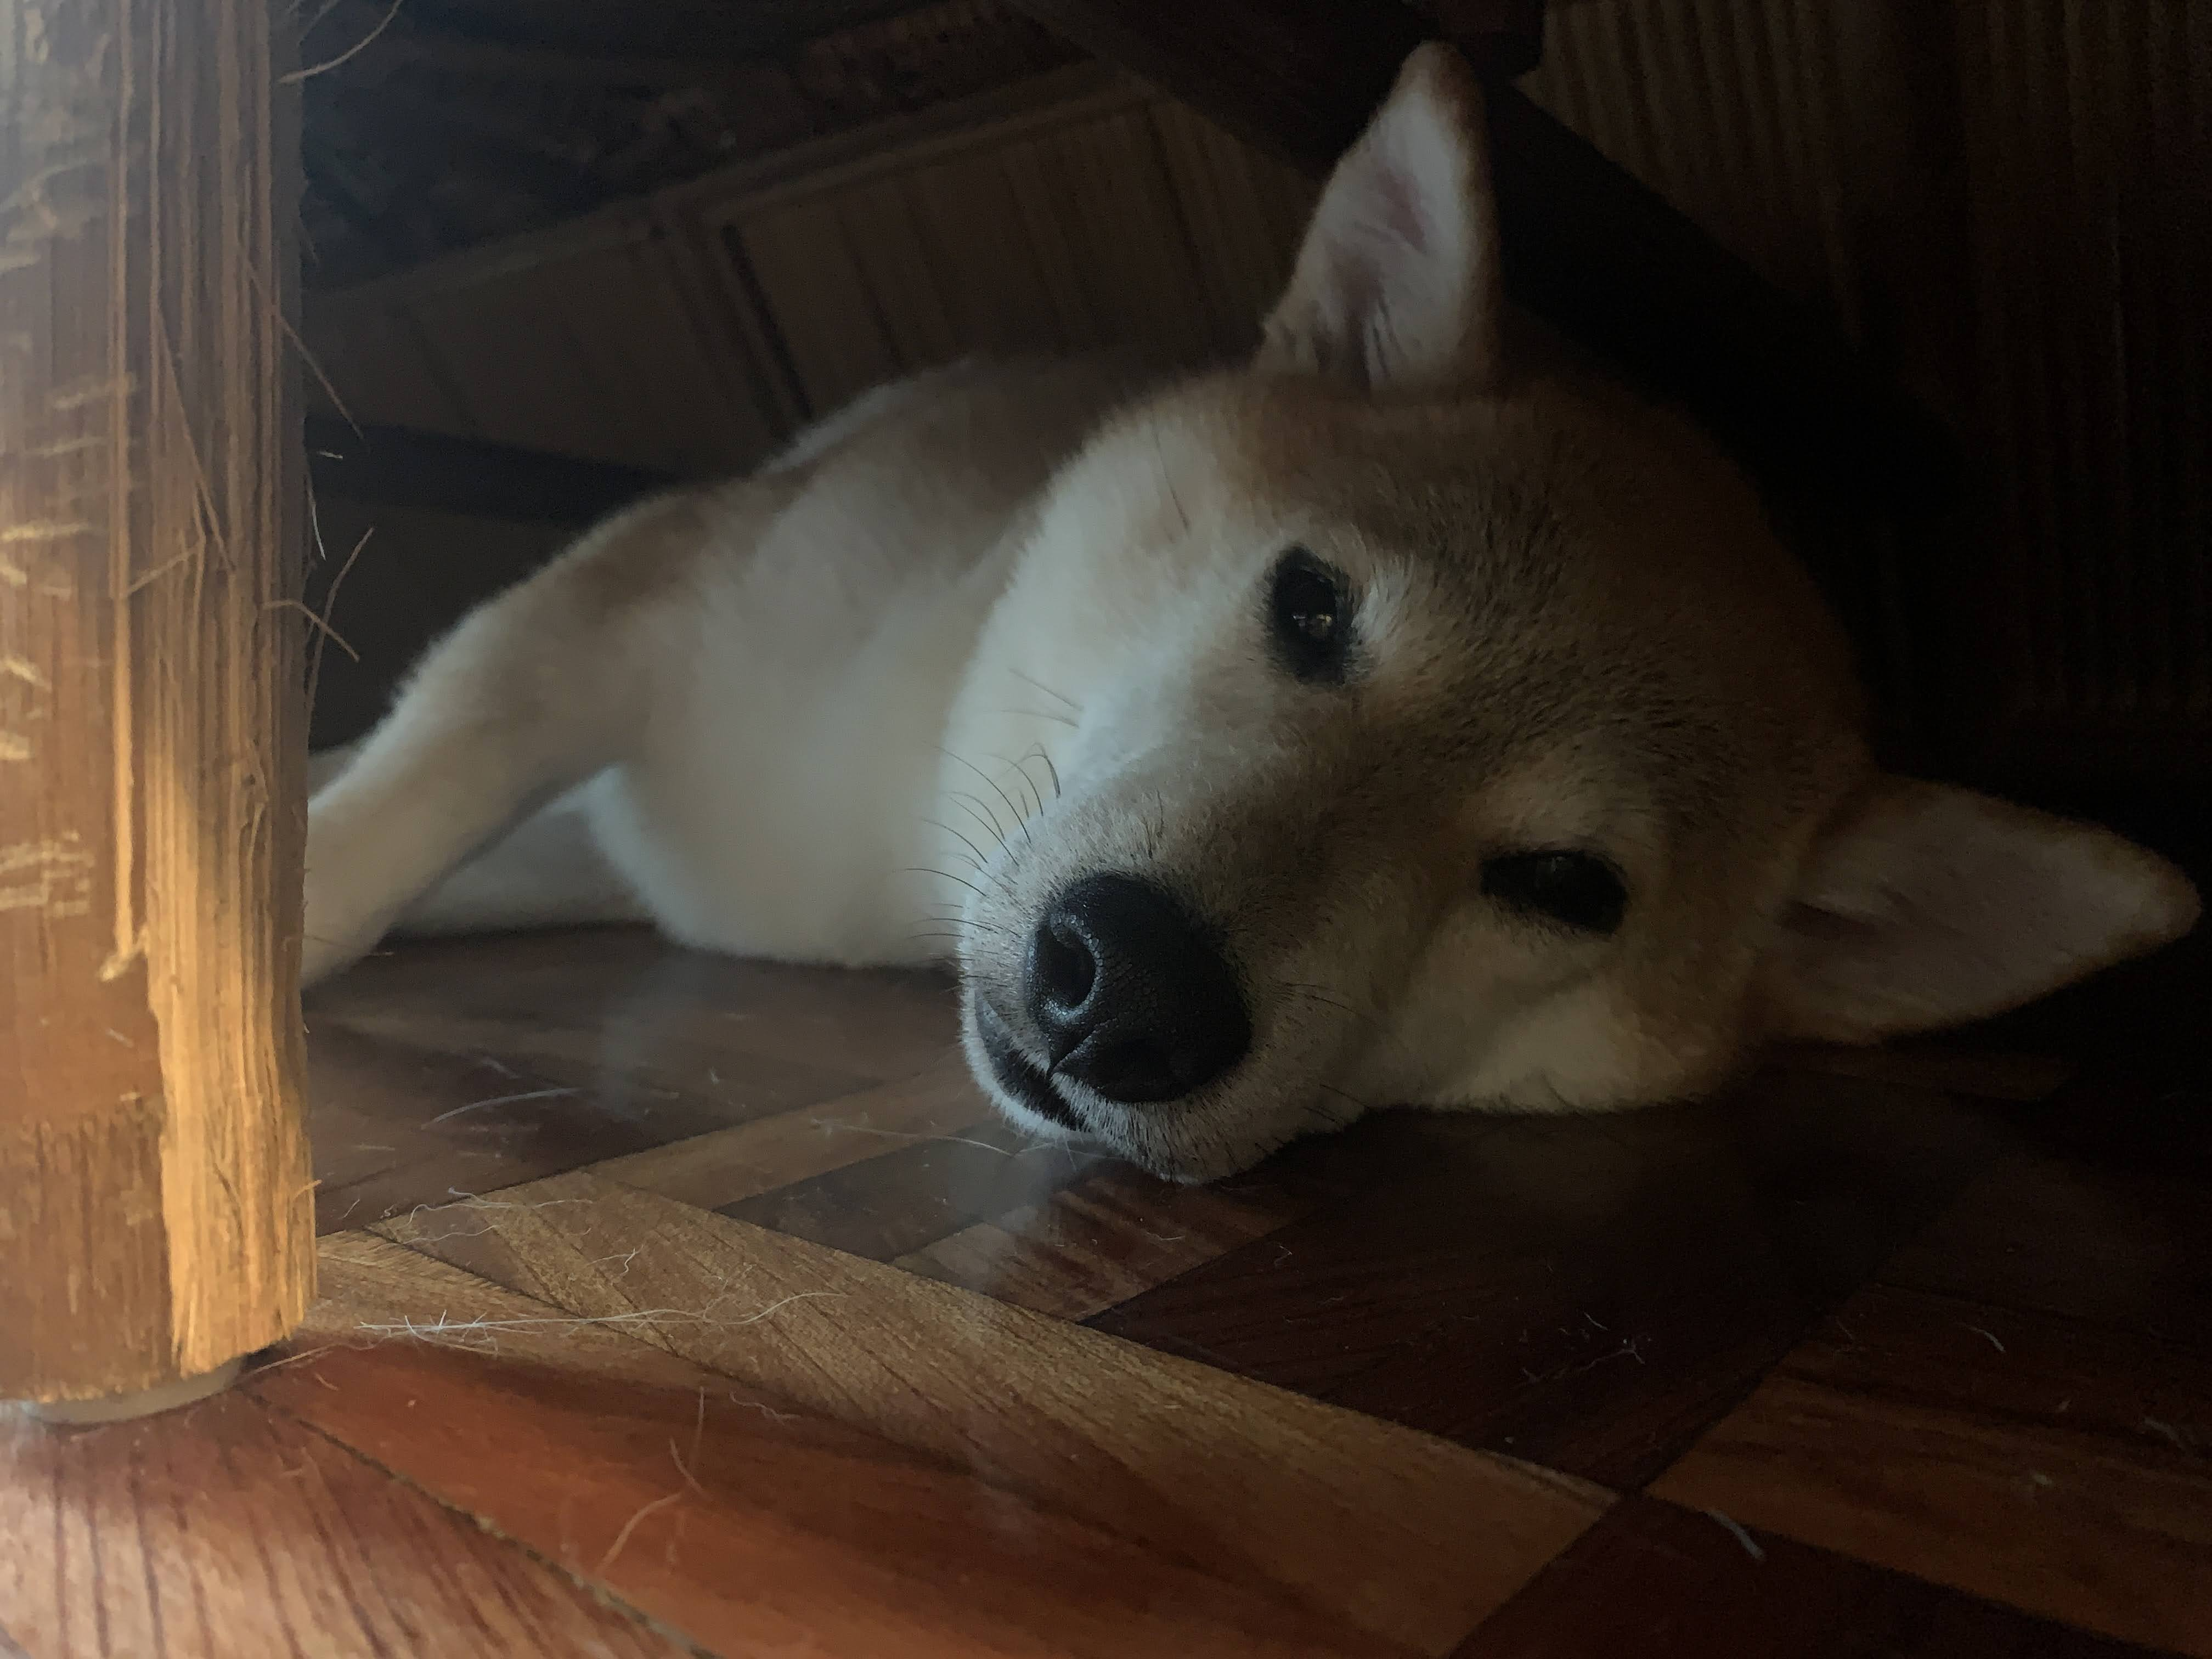Lie down: (291, 87, 2144, 1218)
